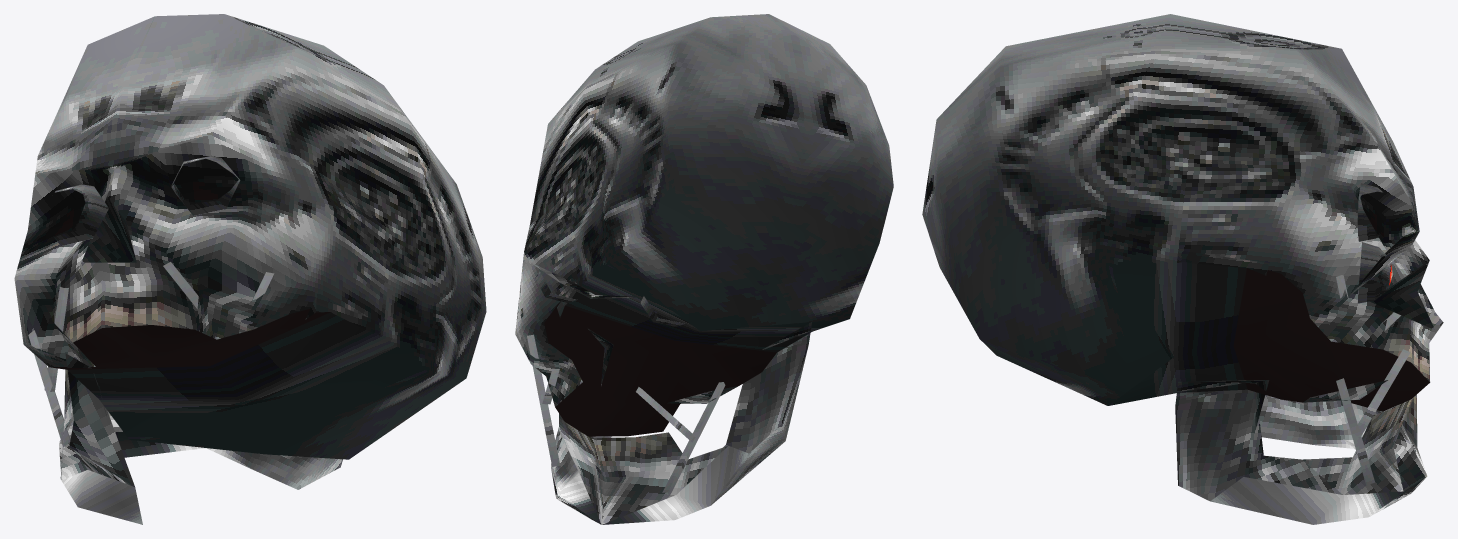
The model's file is ps2_save-icons_terminatordawnoffate.glb.
3 renders of one model, left to right at view 1: azimuth 30°, elevation 25°; view 2: azimuth 150°, elevation 25°; view 3: azimuth 270°, elevation 25°, orthographic. The views are drawn at different scales.
Parts seen in each view (by area): view 1: T1_VIEW.ICO; view 2: T1_VIEW.ICO; view 3: T1_VIEW.ICO.
Part boxes in pixels (<box>): T1_VIEW.ICO: <box>14,14,486,524</box>; T1_VIEW.ICO: <box>515,14,893,524</box>; T1_VIEW.ICO: <box>922,14,1443,524</box>.
Bounding box in the file's own units: 2.32 × 3.47 × 3.57.
Materials: 1 (1 with a texture image).
